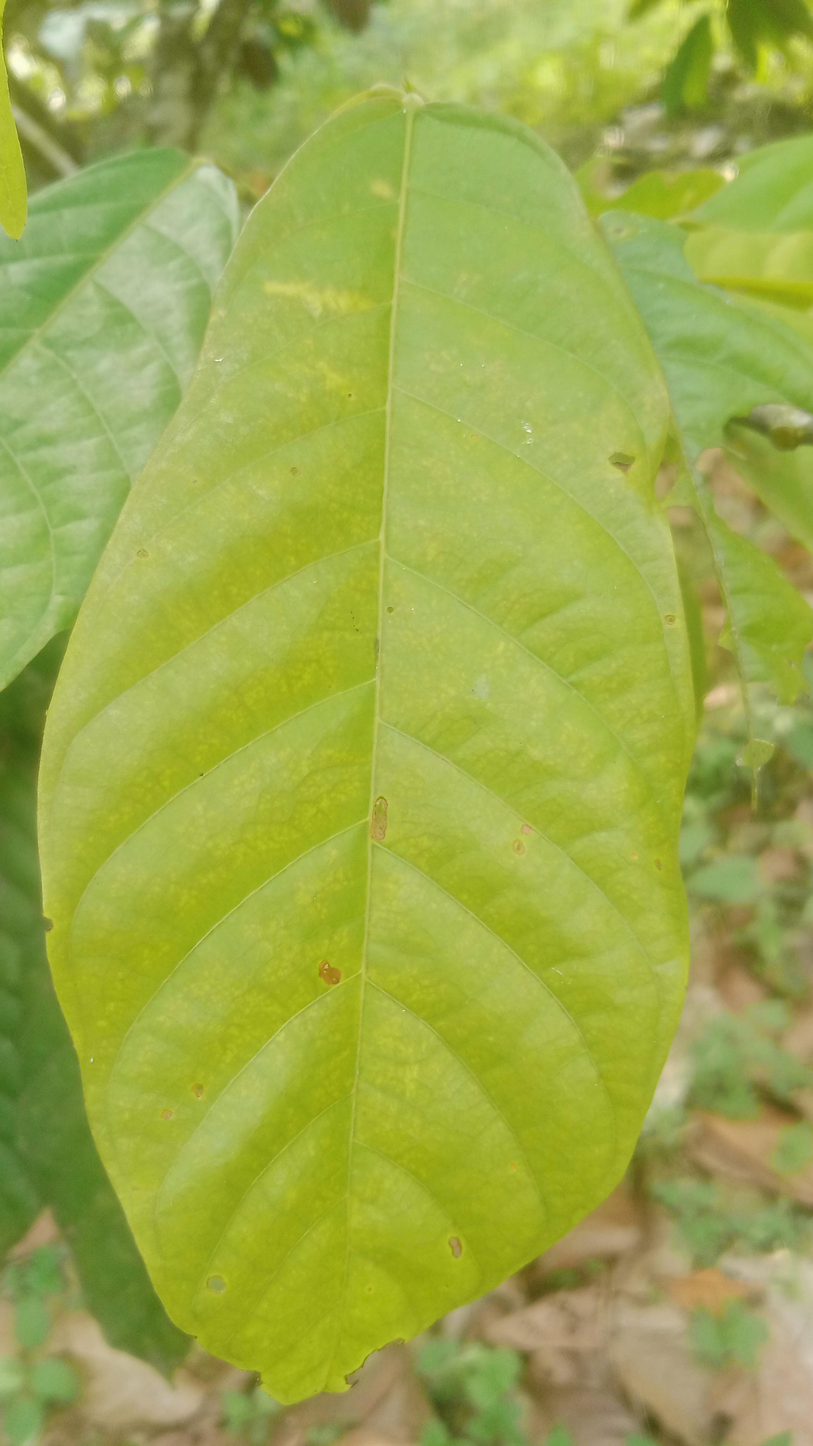deficiencia_potasio: (42, 90, 701, 1400)
